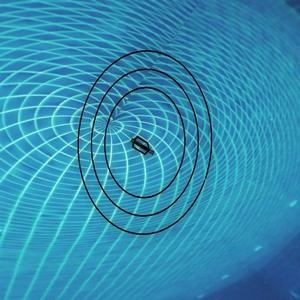circle: (74, 48, 223, 241)
submarine: (129, 135, 152, 154)
